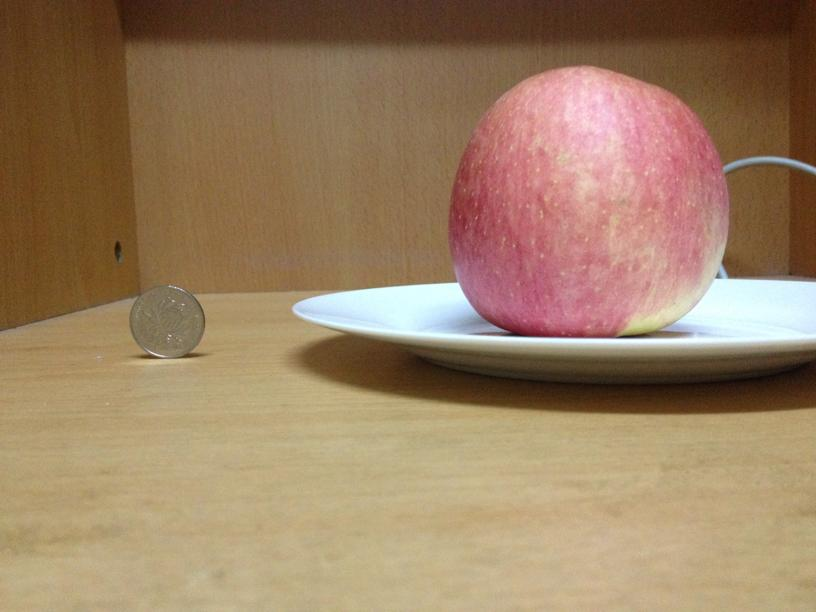apple: (447, 68, 728, 337)
coin: (128, 284, 207, 358)
